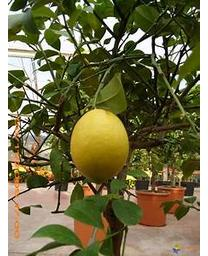lemon: (70, 109, 128, 184)
